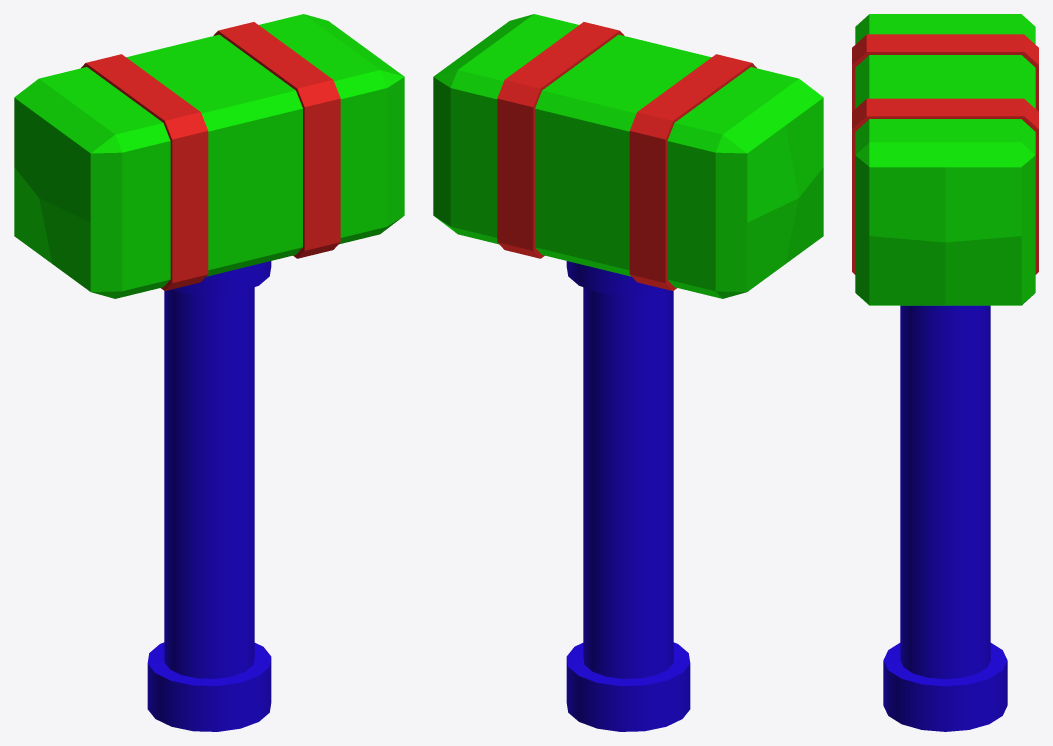
The model's file is HammerUV3.fbx.
3 renders of one model, left to right at view 1: azimuth 30°, elevation 25°; view 2: azimuth 150°, elevation 25°; view 3: azimuth 270°, elevation 25°, orthographic.
Visible parts, largest first — view 1: HammerHead, Handle, Stripes; view 2: HammerHead, Handle, Stripes; view 3: HammerHead, Handle, Stripes.
Boxes of the visible parts, x1,y1,x2,y2 form: HammerHead: [14, 14, 404, 298]; Handle: [147, 261, 271, 731]; Stripes: [81, 22, 340, 290]; HammerHead: [433, 14, 823, 298]; Handle: [566, 261, 690, 731]; Stripes: [497, 22, 756, 290]; HammerHead: [855, 14, 1035, 305]; Handle: [883, 305, 1007, 731]; Stripes: [852, 34, 1038, 274].
Size of the model in its own units: 651 by 1158 by 311.
